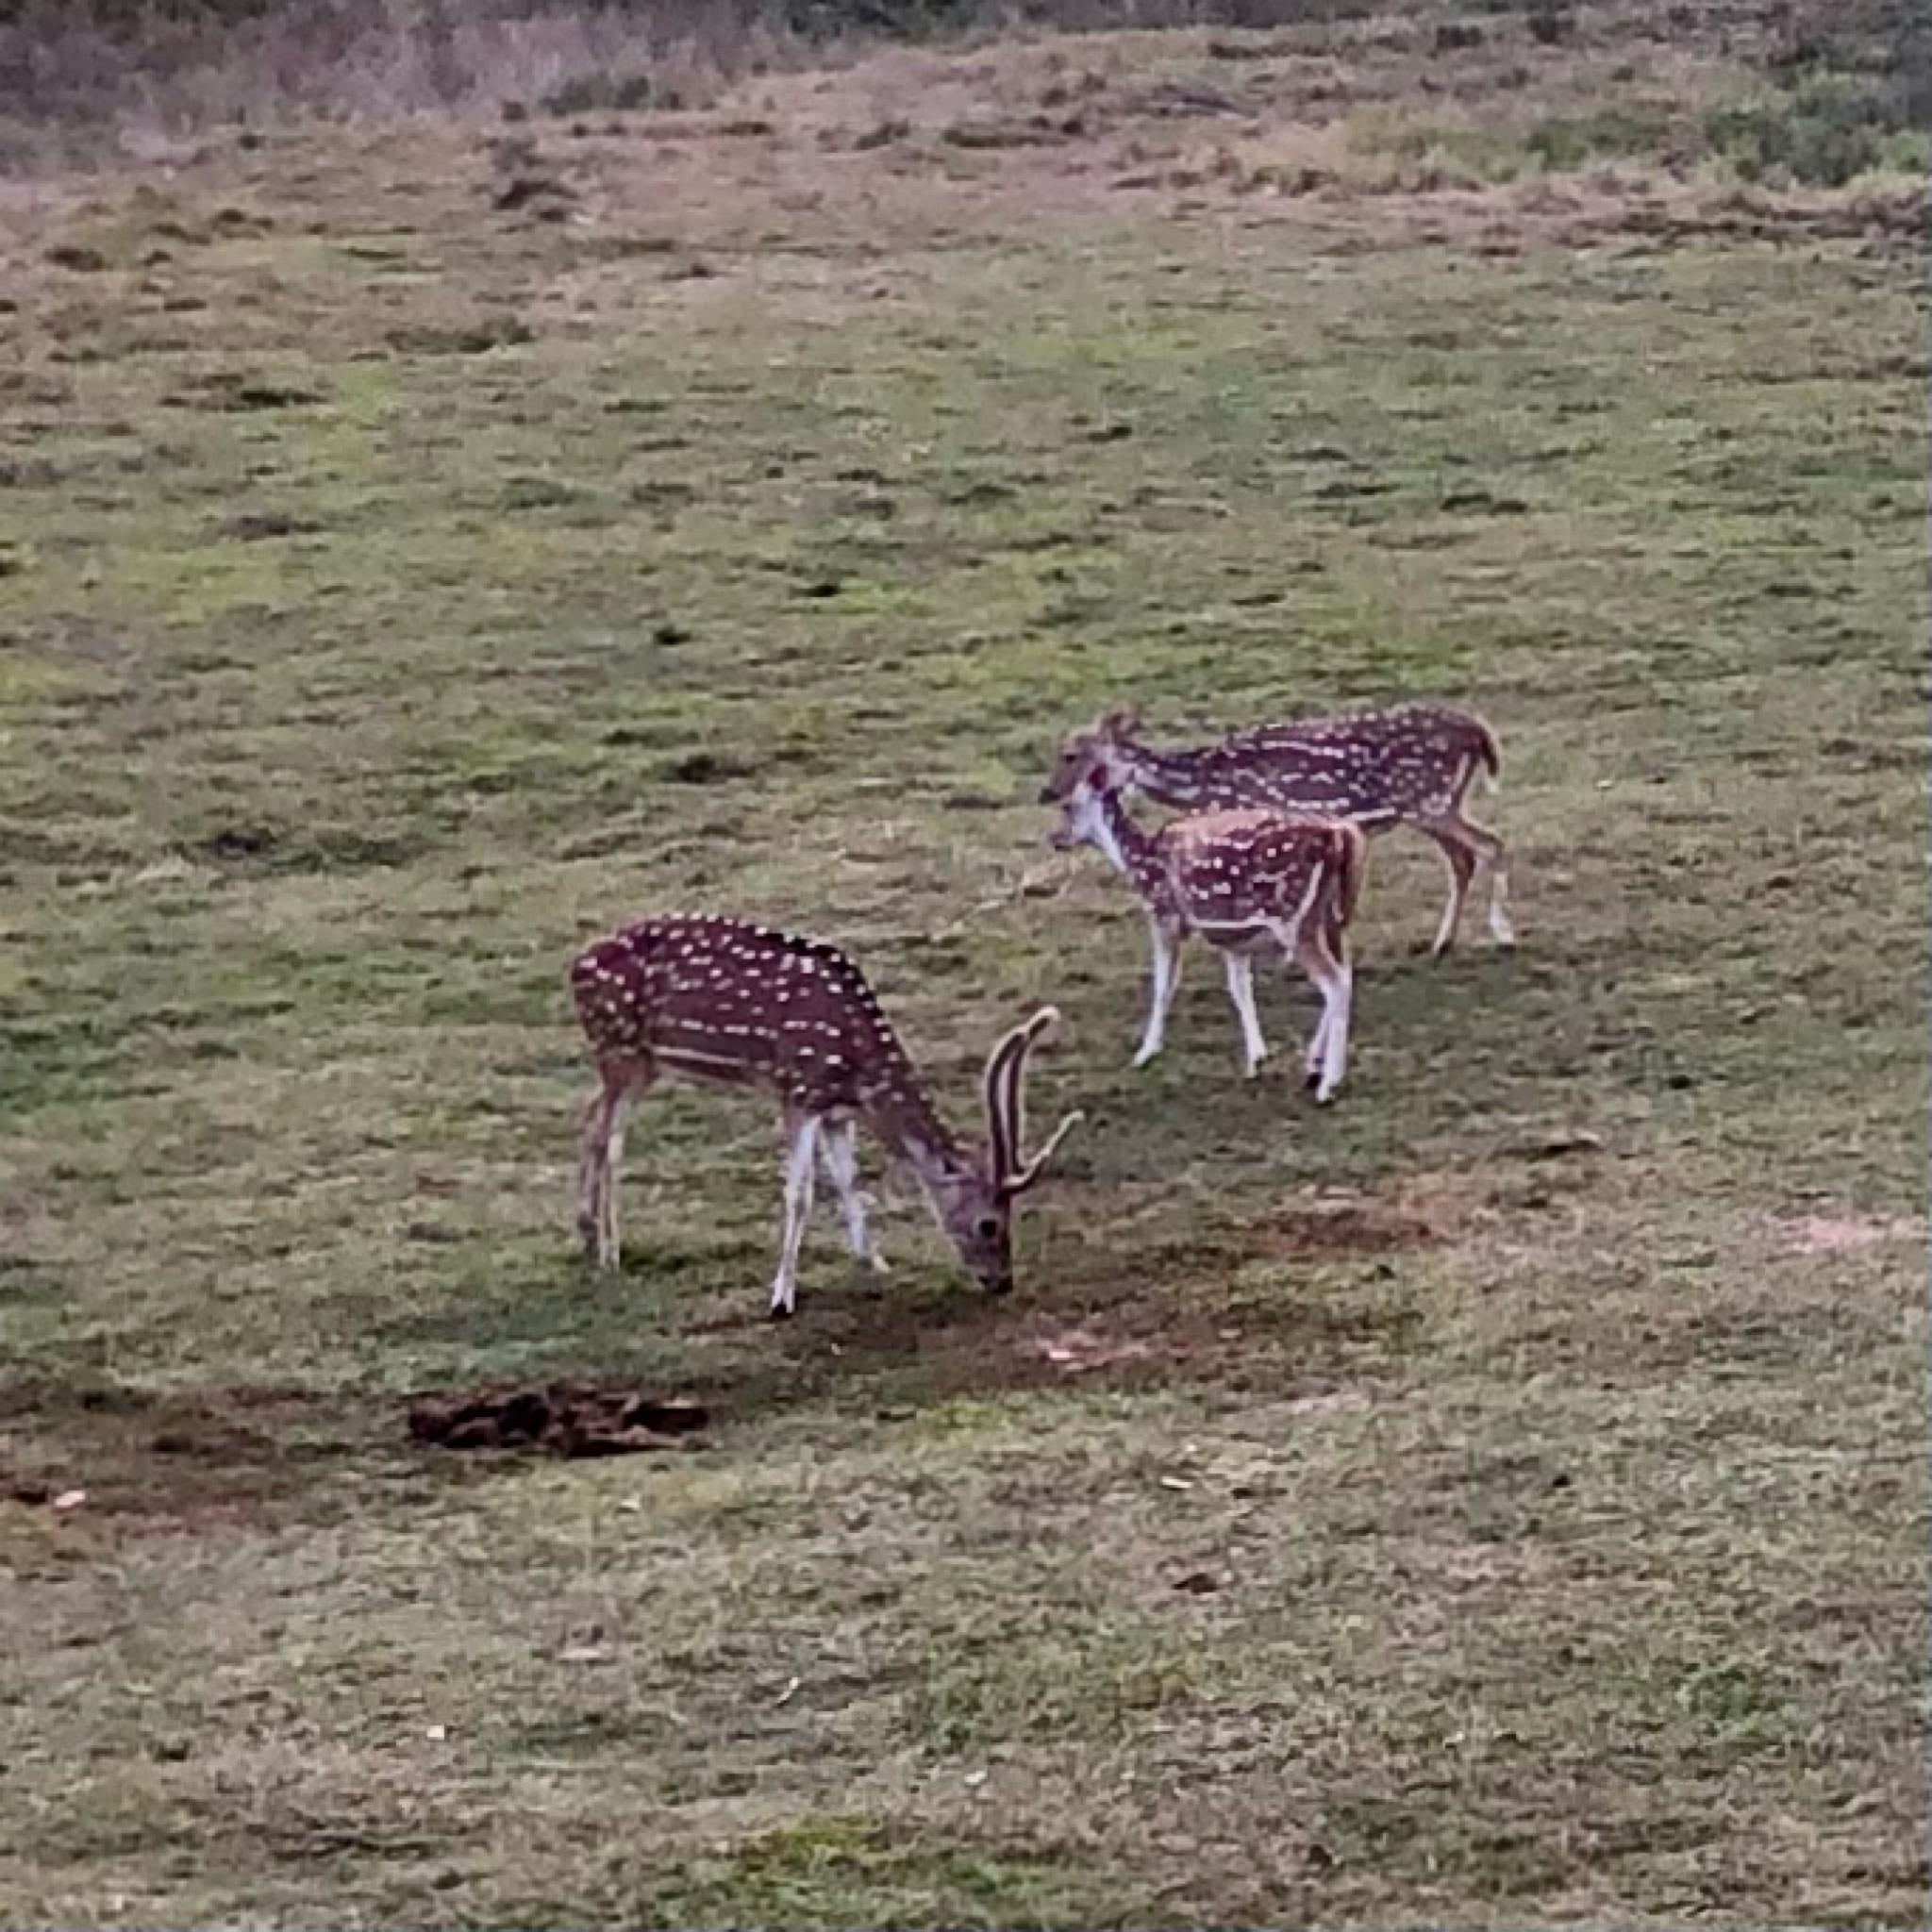Deer: (570, 915, 1083, 1318), (1042, 702, 1514, 957), (1053, 750, 1366, 1104)
